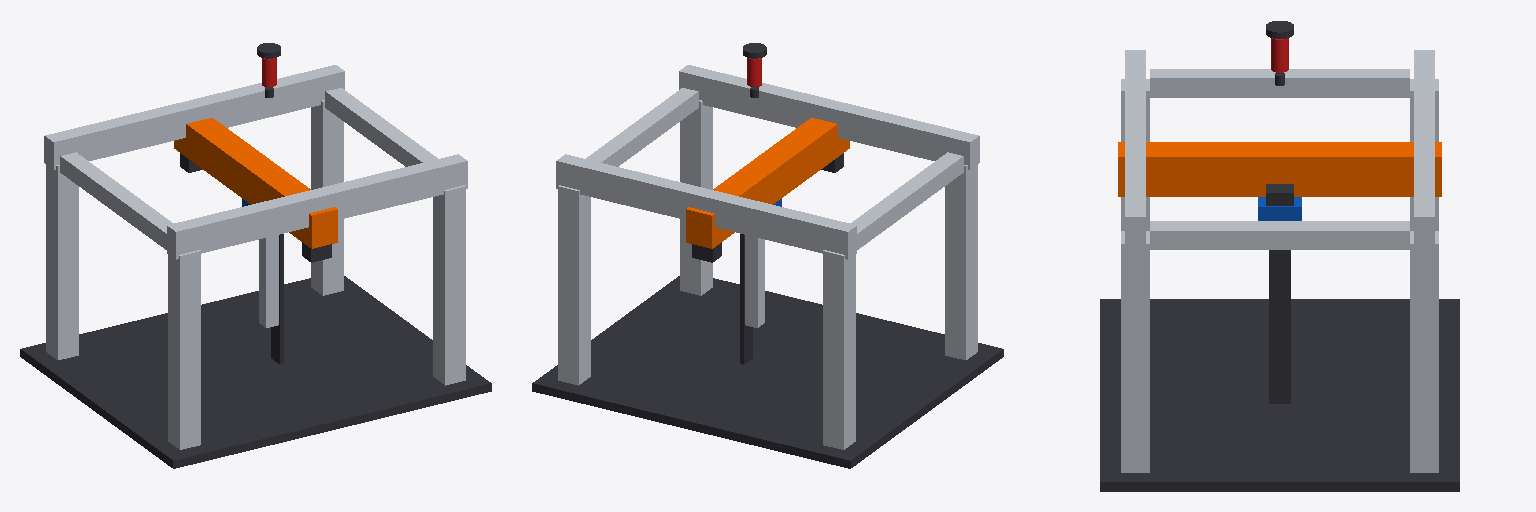
robot.urdf — gantry_robot:
<?xml version="1.0"?>
<robot name="gantry_robot">
  <!-- ============================================== -->
  <!-- Industrial Gantry Robot - Improved Visuals    -->
  <!-- 3-axis Cartesian robot with realistic frame   -->
  <!-- ============================================== -->

  <!-- World link for Gazebo compatibility -->
  <link name="world"/>

  <!-- ============== MATERIALS ============== -->
  <material name="aluminum">
    <color rgba="0.8 0.82 0.85 1.0"/>
  </material>
  <material name="dark_steel">
    <color rgba="0.25 0.25 0.28 1.0"/>
  </material>
  <material name="orange_accent">
    <color rgba="1.0 0.45 0.0 1.0"/>
  </material>
  <material name="blue_accent">
    <color rgba="0.1 0.4 0.8 1.0"/>
  </material>
  <material name="black">
    <color rgba="0.1 0.1 0.1 1.0"/>
  </material>
  <material name="yellow_safety">
    <color rgba="1.0 0.85 0.0 1.0"/>
  </material>
  <material name="red_tool">
    <color rgba="0.85 0.15 0.15 1.0"/>
  </material>

  <!-- ============== BASE FRAME ============== -->
  <link name="robot_base">
    <!-- Main base plate -->
    <visual>
      <geometry>
        <box size="1.2 1.0 0.03"/>
      </geometry>
      <origin xyz="0 0 0" rpy="0 0 0"/>
      <material name="dark_steel"/>
    </visual>
    <collision>
      <geometry>
        <box size="1.2 1.0 0.03"/>
      </geometry>
      <origin xyz="0 0 0" rpy="0 0 0"/>
    </collision>
  </link>

  <joint name="world_to_robot_base" type="fixed">
    <parent link="world"/>
    <child link="robot_base"/>
    <origin xyz="0 0 0.5" rpy="0 0 0"/>
  </joint>

  <!-- ============== SUPPORT COLUMNS ============== -->
  <!-- Front-left column -->
  <link name="column_fl">
    <visual>
      <geometry>
        <box size="0.08 0.08 0.7"/>
      </geometry>
      <origin xyz="0 0 0.35" rpy="0 0 0"/>
      <material name="aluminum"/>
    </visual>
  </link>
  <joint name="base_to_column_fl" type="fixed">
    <parent link="robot_base"/>
    <child link="column_fl"/>
    <origin xyz="-0.5 -0.4 0.015" rpy="0 0 0"/>
  </joint>

  <!-- Front-right column -->
  <link name="column_fr">
    <visual>
      <geometry>
        <box size="0.08 0.08 0.7"/>
      </geometry>
      <origin xyz="0 0 0.35" rpy="0 0 0"/>
      <material name="aluminum"/>
    </visual>
  </link>
  <joint name="base_to_column_fr" type="fixed">
    <parent link="robot_base"/>
    <child link="column_fr"/>
    <origin xyz="-0.5 0.4 0.015" rpy="0 0 0"/>
  </joint>

  <!-- Back-left column -->
  <link name="column_bl">
    <visual>
      <geometry>
        <box size="0.08 0.08 0.7"/>
      </geometry>
      <origin xyz="0 0 0.35" rpy="0 0 0"/>
      <material name="aluminum"/>
    </visual>
  </link>
  <joint name="base_to_column_bl" type="fixed">
    <parent link="robot_base"/>
    <child link="column_bl"/>
    <origin xyz="0.5 -0.4 0.015" rpy="0 0 0"/>
  </joint>

  <!-- Back-right column -->
  <link name="column_br">
    <visual>
      <geometry>
        <box size="0.08 0.08 0.7"/>
      </geometry>
      <origin xyz="0 0 0.35" rpy="0 0 0"/>
      <material name="aluminum"/>
    </visual>
  </link>
  <joint name="base_to_column_br" type="fixed">
    <parent link="robot_base"/>
    <child link="column_br"/>
    <origin xyz="0.5 0.4 0.015" rpy="0 0 0"/>
  </joint>

  <!-- ============== TOP FRAME (X-AXIS RAILS) ============== -->
  <!-- Left X rail (connects front-left to back-left columns) -->
  <link name="x_rail_left">
    <visual>
      <geometry>
        <box size="1.1 0.06 0.1"/>
      </geometry>
      <origin xyz="0 0 0" rpy="0 0 0"/>
      <material name="aluminum"/>
    </visual>
    <!-- Linear guide rail visual -->
    <visual>
      <geometry>
        <box size="1.05 0.02 0.02"/>
      </geometry>
      <origin xyz="0 0.015 -0.03" rpy="0 0 0"/>
      <material name="dark_steel"/>
    </visual>
  </link>
  <joint name="base_to_x_rail_left" type="fixed">
    <parent link="robot_base"/>
    <child link="x_rail_left"/>
    <origin xyz="0 -0.4 0.75" rpy="0 0 0"/>
  </joint>

  <!-- Right X rail (connects front-right to back-right columns) -->
  <link name="x_rail_right">
    <visual>
      <geometry>
        <box size="1.1 0.06 0.1"/>
      </geometry>
      <origin xyz="0 0 0" rpy="0 0 0"/>
      <material name="aluminum"/>
    </visual>
    <!-- Linear guide rail visual -->
    <visual>
      <geometry>
        <box size="1.05 0.02 0.02"/>
      </geometry>
      <origin xyz="0 -0.015 -0.03" rpy="0 0 0"/>
      <material name="dark_steel"/>
    </visual>
  </link>
  <joint name="base_to_x_rail_right" type="fixed">
    <parent link="robot_base"/>
    <child link="x_rail_right"/>
    <origin xyz="0 0.4 0.75" rpy="0 0 0"/>
  </joint>

  <!-- Front cross beam -->
  <link name="cross_beam_front">
    <visual>
      <geometry>
        <box size="0.06 0.72 0.06"/>
      </geometry>
      <origin xyz="0 0 0" rpy="0 0 0"/>
      <material name="aluminum"/>
    </visual>
  </link>
  <joint name="base_to_cross_front" type="fixed">
    <parent link="robot_base"/>
    <child link="cross_beam_front"/>
    <origin xyz="-0.5 0 0.72" rpy="0 0 0"/>
  </joint>

  <!-- Back cross beam -->
  <link name="cross_beam_back">
    <visual>
      <geometry>
        <box size="0.06 0.72 0.06"/>
      </geometry>
      <origin xyz="0 0 0" rpy="0 0 0"/>
      <material name="aluminum"/>
    </visual>
  </link>
  <joint name="base_to_cross_back" type="fixed">
    <parent link="robot_base"/>
    <child link="cross_beam_back"/>
    <origin xyz="0.5 0 0.72" rpy="0 0 0"/>
  </joint>

  <!-- ============== X-AXIS CARRIAGE (Y-BEAM) ============== -->
  <link name="x_carriage">
    <!-- Main Y-axis beam -->
    <visual>
      <geometry>
        <box size="0.1 0.9 0.12"/>
      </geometry>
      <origin xyz="0 0 0" rpy="0 0 0"/>
      <material name="orange_accent"/>
    </visual>
    <!-- Left bearing block -->
    <visual>
      <geometry>
        <box size="0.08 0.06 0.06"/>
      </geometry>
      <origin xyz="0 -0.4 -0.09" rpy="0 0 0"/>
      <material name="dark_steel"/>
    </visual>
    <!-- Right bearing block -->
    <visual>
      <geometry>
        <box size="0.08 0.06 0.06"/>
      </geometry>
      <origin xyz="0 0.4 -0.09" rpy="0 0 0"/>
      <material name="dark_steel"/>
    </visual>
    <!-- Y-axis linear rail -->
    <visual>
      <geometry>
        <box size="0.02 0.85 0.02"/>
      </geometry>
      <origin xyz="0.03 0 -0.04" rpy="0 0 0"/>
      <material name="dark_steel"/>
    </visual>
    <collision>
      <geometry>
        <box size="0.1 0.9 0.12"/>
      </geometry>
      <origin xyz="0 0 0" rpy="0 0 0"/>
    </collision>
  </link>

  <joint name="x_joint" type="prismatic">
    <parent link="robot_base"/>
    <child link="x_carriage"/>
    <origin xyz="0 0 0.69" rpy="0 0 0"/>
    <axis xyz="1 0 0"/>
    <limit lower="-0.4" upper="0.4" effort="100" velocity="0.5"/>
  </joint>

  <!-- ============== Y-AXIS CARRIAGE ============== -->
  <link name="y_carriage">
    <!-- Main carriage body -->
    <visual>
      <geometry>
        <box size="0.14 0.12 0.1"/>
      </geometry>
      <origin xyz="0 0 0" rpy="0 0 0"/>
      <material name="blue_accent"/>
    </visual>
    <!-- Bearing block -->
    <visual>
      <geometry>
        <box size="0.06 0.08 0.04"/>
      </geometry>
      <origin xyz="0.03 0 0.07" rpy="0 0 0"/>
      <material name="dark_steel"/>
    </visual>
    <collision>
      <geometry>
        <box size="0.14 0.12 0.1"/>
      </geometry>
      <origin xyz="0 0 0" rpy="0 0 0"/>
    </collision>
  </link>

  <joint name="y_joint" type="prismatic">
    <parent link="x_carriage"/>
    <child link="y_carriage"/>
    <origin xyz="0.05 0 -0.11" rpy="0 0 0"/>
    <axis xyz="0 1 0"/>
    <limit lower="-0.3" upper="0.3" effort="100" velocity="0.5"/>
  </joint>

  <!-- ============== Z-AXIS COLUMN ============== -->
  <link name="z_column">
    <!-- Main Z column (moves vertically) -->
    <visual>
      <geometry>
        <box size="0.05 0.05 0.40"/>
      </geometry>
      <origin xyz="0 0 -0.175" rpy="0 0 0"/>
      <material name="aluminum"/>
    </visual>
    <!-- Z guide rail -->
    <visual>
      <geometry>
        <box size="0.015 0.06 0.6"/>
      </geometry>
      <origin xyz="0.03 0 -0.25" rpy="0 0 0"/>
      <material name="dark_steel"/>
    </visual>
    <!-- Cable chain mount -->
    <visual>
      <geometry>
        <box size="0.03 0.08 0.08"/>
      </geometry>
      <origin xyz="-0.04 0 0" rpy="0 0 0"/>
      <material name="black"/>
    </visual>
    <collision>
      <geometry>
        <box size="0.05 0.05 0.65"/>
      </geometry>
      <origin xyz="0 0 -0.275" rpy="0 0 0"/>
    </collision>
  </link>

  <joint name="z_joint" type="prismatic">
    <parent link="y_carriage"/>
    <child link="z_column"/>
    <origin xyz="0 0 -0.05" rpy="0 0 0"/>
    <axis xyz="0 0 1"/>
    <limit lower="-0.4" upper="0.4" effort="100" velocity="0.5"/>
  </joint>

  <!-- ============== END EFFECTOR ============== -->
  <link name="end_effector">
    <!-- Tool mounting plate (connects to z_column at origin) -->
    <visual>
      <geometry>
        <cylinder radius="0.04" length="0.02"/>
      </geometry>
      <origin xyz="0 0 0.01" rpy="0 0 0"/>
      <material name="dark_steel"/>
    </visual>
    <!-- Tool body (extends downward from mounting plate) -->
    <visual>
      <geometry>
        <cylinder radius="0.025" length="0.10"/>
      </geometry>
      <origin xyz="0 0 -0.06" rpy="0 0 0"/>
      <material name="red_tool"/>
    </visual>
    <!-- Tool tip (at the very bottom) -->
    <visual>
      <geometry>
        <cylinder radius="0.015" length="0.03"/>
      </geometry>
      <origin xyz="0 0 -0.14" rpy="0 0 0"/>
      <material name="dark_steel"/>
    </visual>
    <collision>
      <geometry>
        <cylinder radius="0.04" length="0.16"/>
      </geometry>
      <origin xyz="0 0 -0.08" rpy="0 0 0"/>
    </collision>
  </link>

  <joint name="effector_joint" type="fixed">
    <parent link="z_column"/>
    <child link="end_effector"/>
    <origin xyz="0 0 0.6" rpy="0 0 0"/>
  </joint>

  <!-- ============== TOOL FRAMES ============== -->
  <link name="tool0"/>
  <joint name="effector_to_tool0" type="fixed">
    <parent link="end_effector"/>
    <child link="tool0"/>
    <origin xyz="0 0 -0.11" rpy="0 0 0"/>
  </joint>

  <!-- Manufacturer base frame for drag&bot compatibility -->
  <link name="manufacturer_base"/>
  <joint name="robot_base_to_manufacturer_base" type="fixed">
    <parent link="robot_base"/>
    <child link="manufacturer_base"/>
    <origin xyz="0 0 0" rpy="0 0 0"/>
  </joint>

  <!-- Robot state TCP for drag&bot compatibility -->
  <link name="robot_state_tcp"/>
  <joint name="tool0_to_robot_state_tcp" type="fixed">
    <parent link="tool0"/>
    <child link="robot_state_tcp"/>
    <origin xyz="0 0 0" rpy="0 0 0"/>
  </joint>

</robot>

--- Facts derived from the render (not from the file) ---
Views: 3 orthographic renders of the robot side by side, from view 1: azimuth 30°, elevation 25°; view 2: azimuth 150°, elevation 25°; view 3: azimuth 270°, elevation 25°.
Robot: gantry_robot — 17 links, 16 joints (3 prismatic, 13 fixed); root link world; default pose: all joints at 0.
Visible links, largest first — view 1: robot_base, x_rail_left, x_rail_right, x_carriage, column_fl, column_bl, column_fr, column_br, cross_beam_front, cross_beam_back, z_column, end_effector; view 2: robot_base, x_rail_right, x_rail_left, x_carriage, column_fr, column_br, column_fl, column_bl, cross_beam_front, cross_beam_back, z_column, end_effector; view 3: robot_base, x_carriage, cross_beam_back, cross_beam_front, column_bl, column_br, x_rail_left, x_rail_right, z_column, y_carriage, end_effector, column_fl (+1 smaller).
Boxes of the visible links, <box> form: robot_base: <box>20,276,491,468</box>; x_rail_left: <box>167,154,467,259</box>; x_rail_right: <box>44,65,344,169</box>; x_carriage: <box>174,118,337,262</box>; column_fl: <box>168,250,200,449</box>; column_bl: <box>433,185,465,385</box>; column_fr: <box>46,165,78,359</box>; column_br: <box>311,100,343,295</box>; cross_beam_front: <box>60,152,173,249</box>; cross_beam_back: <box>325,88,437,166</box>; z_column: <box>259,234,283,364</box>; end_effector: <box>257,43,280,97</box>; robot_base: <box>532,276,1003,468</box>; x_rail_right: <box>556,154,856,259</box>; x_rail_left: <box>679,65,979,169</box>; x_carriage: <box>686,118,849,262</box>; column_fr: <box>823,250,855,449</box>; column_br: <box>558,185,590,385</box>; column_fl: <box>945,165,977,359</box>; column_bl: <box>680,100,712,295</box>; cross_beam_front: <box>850,152,963,249</box>; cross_beam_back: <box>586,88,698,166</box>; z_column: <box>740,234,764,364</box>; end_effector: <box>743,43,766,97</box>; robot_base: <box>1100,299,1459,491</box>; x_carriage: <box>1118,142,1441,196</box>; cross_beam_back: <box>1150,221,1409,249</box>; cross_beam_front: <box>1150,69,1409,97</box>; column_bl: <box>1121,231,1149,472</box>; column_br: <box>1410,231,1438,472</box>; x_rail_left: <box>1125,50,1145,249</box>; x_rail_right: <box>1414,50,1434,249</box>; z_column: <box>1269,250,1290,403</box>; y_carriage: <box>1258,184,1301,220</box>; end_effector: <box>1266,21,1293,85</box>; column_fl: <box>1121,79,1149,230</box>.
Bounding box of the posed robot: 1.2 × 1 × 1.17 m (x, y, z).
Geometry: primitives only (box / cylinder / sphere), no mesh files.